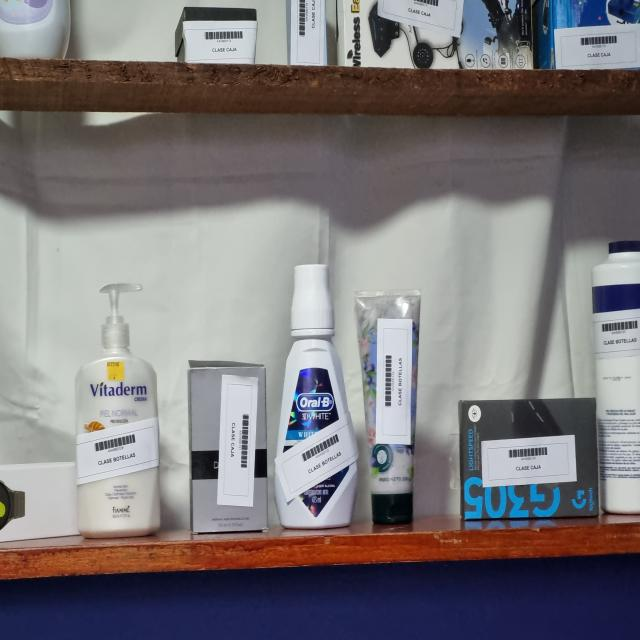botella: (275, 264, 358, 529), (76, 283, 160, 538), (355, 290, 420, 524), (592, 241, 640, 513)
caja: (459, 399, 598, 520), (188, 361, 268, 534), (338, 0, 533, 70), (538, 0, 640, 69), (0, 462, 79, 542), (176, 7, 257, 64), (286, 0, 327, 65)
